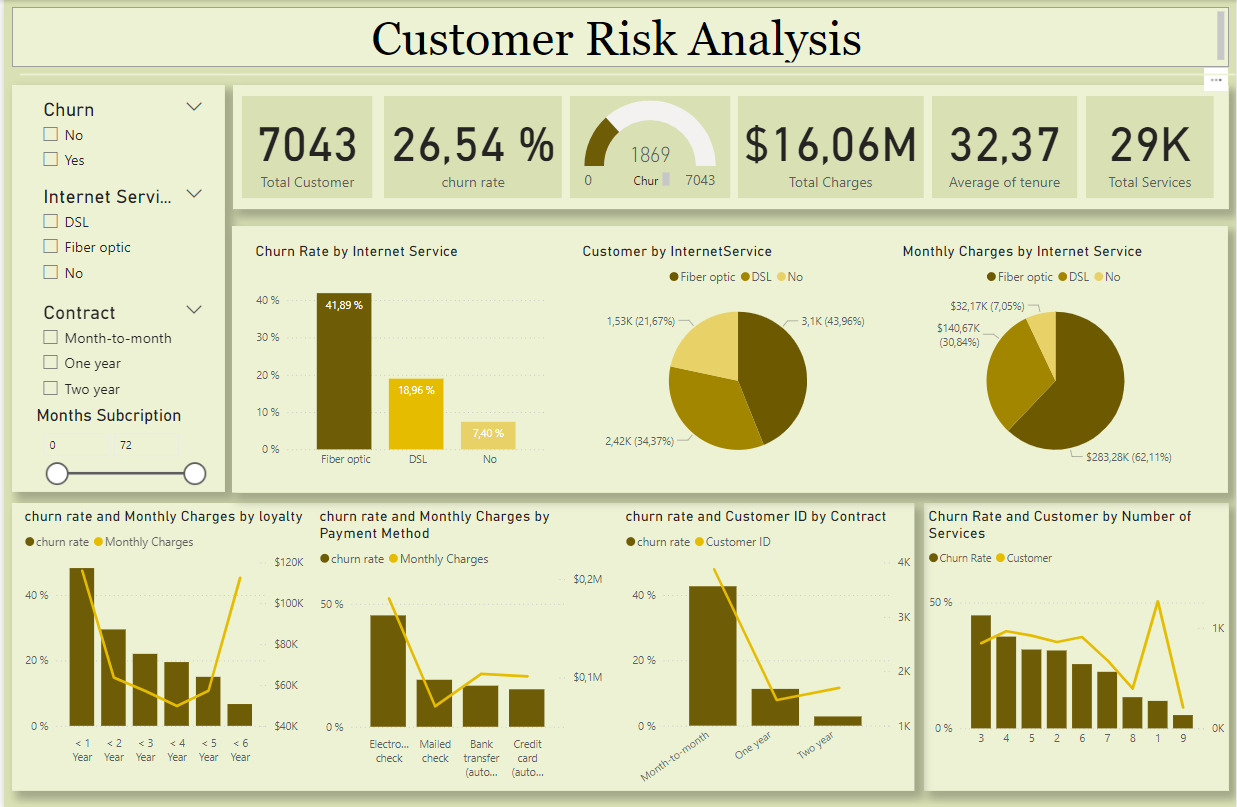

What the dashboard file says about the page in this screenshot:
{"tool":"powerbi","page":{"name":"Risk Analysis","canvas":[1400,920],"ordinal":1},"visuals":[{"type":"shape","box":[9.2,96.6,241.6,462.4],"z":0},{"type":"shape","box":[1044.5,571.7,346.3,326.7],"z":1000},{"type":"shape","box":[9.2,571.7,1025,326.7],"z":2000},{"type":"shape","box":[259.5,256.8,1131.1,302.7],"z":3000},{"type":"columnChart","fields":{"Category":["01 Churn-Dataset.InternetService"],"Y":["01 Churn-Dataset.churn rate"]},"box":[280.7,274.9,341.7,265.7],"z":4000},{"type":"shape","box":[260,96.6,1130.8,141.5],"z":5000},{"type":"gauge","fields":{"MaxValue":["CountNonNull(01 Churn-Dataset.customerID)"],"Y":["Measure.Churn for Yes"]},"box":[643.1,109.3,181.8,116.2],"z":6000},{"type":"card","fields":{"Values":["01 Churn-Dataset.churn rate"]},"box":[431.4,109.3,202.5,116.2],"z":7000},{"type":"lineClusteredColumnComboChart","fields":{"Category":["01 Churn-Dataset.Number of Services"],"Y":["01 Churn-Dataset.churn rate"],"Y2":["CountNonNull(01 Churn-Dataset.customerID)"]},"box":[1044.5,576.3,346.3,281.8],"z":8000},{"type":"lineStackedColumnComboChart","fields":{"Category":["01 Churn-Dataset.PaymentMethod"],"Y":["01 Churn-Dataset.churn rate"],"Y2":["Sum(01 Churn-Dataset.MonthlyCharges)"]},"box":[353.2,576.3,331.3,316.4],"z":9000},{"type":"pieChart","fields":{"Category":["01 Churn-Dataset.InternetService"],"Y":["CountNonNull(01 Churn-Dataset.customerID)"]},"box":[652.3,274.9,363.5,265.7],"z":10000},{"type":"pieChart","fields":{"Category":["01 Churn-Dataset.InternetService"],"Y":["Sum(01 Churn-Dataset.MonthlyCharges)"]},"box":[1015.8,274.9,357.8,265.7],"z":11000},{"type":"lineStackedColumnComboChart","fields":{"Category":["01 Churn-Dataset.Contract"],"Y":["01 Churn-Dataset.churn rate"],"Y2":["CountNonNull(01 Churn-Dataset.customerID)"]},"box":[700.6,576.3,333.6,335.9],"z":12000},{"type":"textbox","box":[9.2,8.1,1381.6,67.9],"z":13000},{"type":"shape","box":[18.4,42.6,1381.6,85.1],"z":14000},{"type":"slicer","fields":{"Values":["01 Churn-Dataset.Churn"]},"box":[32.2,107,205.9,107],"z":15000},{"type":"slicer","fields":{"Values":["01 Churn-Dataset.InternetService"]},"box":[32.2,205.9,205.9,123.1],"z":16000},{"type":"slicer","title":"Months Subcription","fields":{"Values":["01 Churn-Dataset.tenure"]},"box":[32.2,460.1,205.9,98.9],"z":17000},{"type":"slicer","fields":{"Values":["01 Churn-Dataset.Contract"]},"box":[32.2,337.1,205.9,123.1],"z":18000},{"type":"lineClusteredColumnComboChart","fields":{"Category":["01 Churn-Dataset.loyalty"],"Y":["01 Churn-Dataset.churn rate"],"Y2":["Sum(01 Churn-Dataset.MonthlyCharges)"]},"box":[18.4,576.3,326.7,299.1],"z":19000},{"type":"textbox","box":[709.8,191,50.6,29.9],"z":20000},{"type":"card","fields":{"Values":["CountNonNull(01 Churn-Dataset.customerID)"]},"box":[270.3,109.3,148.4,116.2],"z":21000},{"type":"card","fields":{"Values":["Sum(01 Churn-Dataset.TotalCharges)"]},"box":[834,109.3,210.5,116.2],"z":22000},{"type":"card","fields":{"Values":["Avg(01 Churn-Dataset.tenure)"]},"box":[1053.7,109.3,164.5,116.2],"z":22001},{"type":"card","fields":{"Values":["Sum(01 Churn-Dataset.Number of Services)"]},"box":[1228.6,109.3,144.9,116.2],"z":22002}]}

Visuals, with their boxes in screenshot pixels (x1, y1, x2, y2), scaled from the page's 1400x920 canvas onto the 1237x807 screenshot:
shape: 8:85:222:490
shape: 923:501:1229:788
shape: 8:501:914:788
shape: 229:225:1229:491
columnChart - 01 Churn-Dataset.InternetService x 01 Churn-Dataset.churn rate: 248:241:550:474
shape: 230:85:1229:209
gauge - CountNonNull(01 Churn-Dataset.customerID) x Measure.Churn for Yes: 568:96:729:198
card - 01 Churn-Dataset.churn rate: 381:96:560:198
lineClusteredColumnComboChart - 01 Churn-Dataset.Number of Services x 01 Churn-Dataset.churn rate: 923:506:1229:753
lineStackedColumnComboChart - 01 Churn-Dataset.PaymentMethod x 01 Churn-Dataset.churn rate: 312:506:605:783
pieChart - 01 Churn-Dataset.InternetService x CountNonNull(01 Churn-Dataset.customerID): 576:241:898:474
pieChart - 01 Churn-Dataset.InternetService x Sum(01 Churn-Dataset.MonthlyCharges): 898:241:1214:474
lineStackedColumnComboChart - 01 Churn-Dataset.Contract x 01 Churn-Dataset.churn rate: 619:506:914:800
textbox: 8:7:1229:67
shape: 16:37:1236:112
slicer - 01 Churn-Dataset.Churn: 28:94:210:188
slicer - 01 Churn-Dataset.InternetService: 28:181:210:289
"Months Subcription" slicer: 28:404:210:490
slicer - 01 Churn-Dataset.Contract: 28:296:210:404
lineClusteredColumnComboChart - 01 Churn-Dataset.loyalty x 01 Churn-Dataset.churn rate: 16:506:305:768
textbox: 627:168:672:194
card - CountNonNull(01 Churn-Dataset.customerID): 239:96:370:198
card - Sum(01 Churn-Dataset.TotalCharges): 737:96:923:198
card - Avg(01 Churn-Dataset.tenure): 931:96:1076:198
card - Sum(01 Churn-Dataset.Number of Services): 1086:96:1214:198
